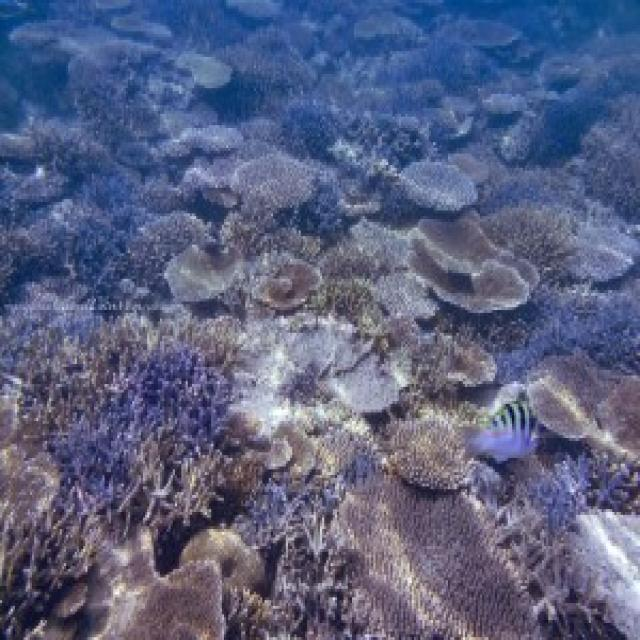Healthy: (24, 322, 238, 578), (244, 223, 436, 411), (338, 476, 541, 638), (496, 450, 639, 601), (229, 504, 370, 638), (88, 530, 225, 638), (498, 288, 639, 379), (413, 214, 539, 311), (528, 354, 639, 456), (244, 405, 370, 479), (568, 510, 639, 638), (69, 169, 148, 280), (118, 211, 212, 294), (387, 413, 472, 490), (481, 203, 577, 268), (408, 331, 496, 394), (180, 527, 263, 587), (231, 152, 317, 209), (223, 211, 321, 257), (167, 246, 240, 300), (402, 160, 477, 211), (253, 260, 321, 308)
